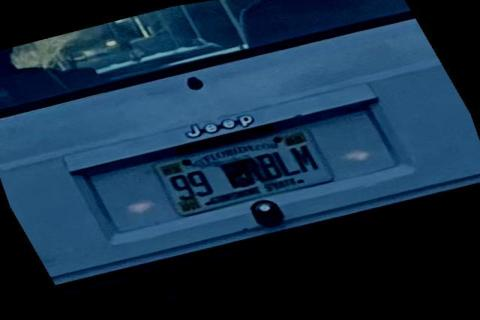LicensePlate: (147, 123, 337, 218)
